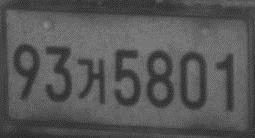0: (179, 51, 207, 110)
1: (215, 51, 236, 113)
3: (44, 46, 72, 101)
5: (114, 48, 141, 106)
8: (145, 51, 175, 108)
9: (11, 44, 40, 100)
거: (75, 58, 107, 106)
